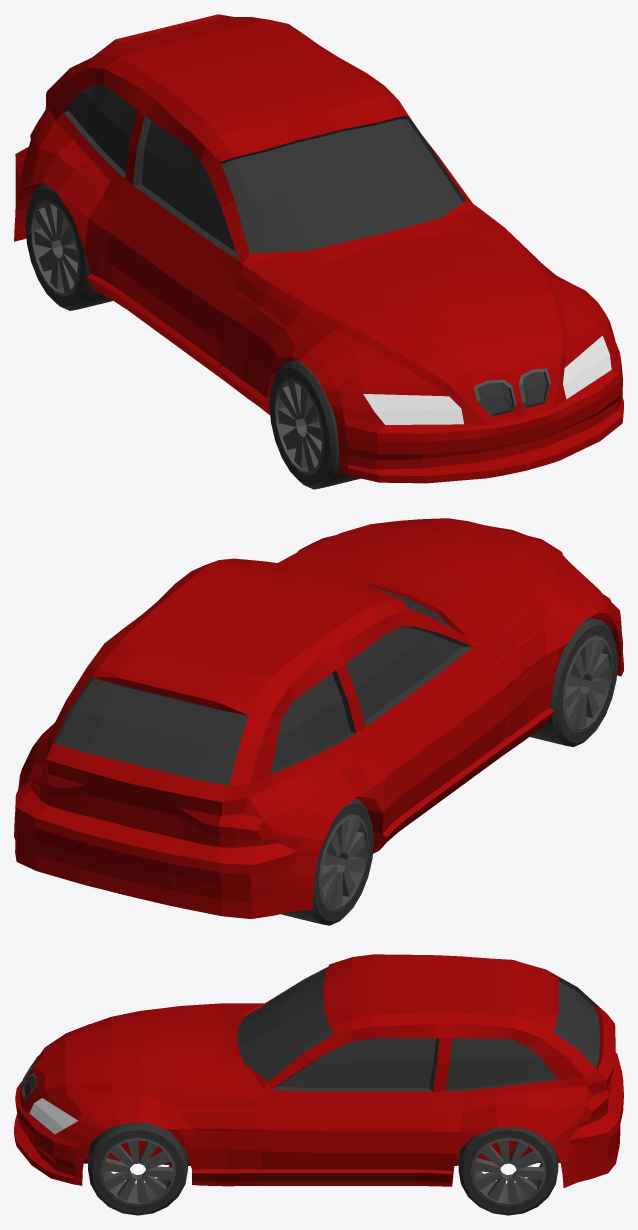
Rendered from z3coupe.fbx.
The picture shows the model from 3 angles, top to bottom: view 1: azimuth 30°, elevation 25°; view 2: azimuth 150°, elevation 25°; view 3: azimuth 270°, elevation 25°; orthographic projection. The views are drawn at different scales.
Visible parts, largest first — view 1: Body3Shape, pPipe2, WheelBR; view 2: Body3Shape, pPipe2, WheelBR; view 3: Body3Shape, pPipe1, WheelBL.
Boxes of the visible parts, <box> form: Body3Shape: <box>14,14,623,483</box>; pPipe2: <box>269,360,360,489</box>; WheelBR: <box>25,184,112,310</box>; Body3Shape: <box>14,518,623,918</box>; pPipe2: <box>530,617,617,746</box>; WheelBR: <box>281,798,373,925</box>; Body3Shape: <box>14,954,623,1187</box>; pPipe1: <box>88,1122,187,1215</box>; WheelBL: <box>458,1127,558,1215</box>.
Size of the model in its own units: 2.64 by 1.97 by 6.08.
